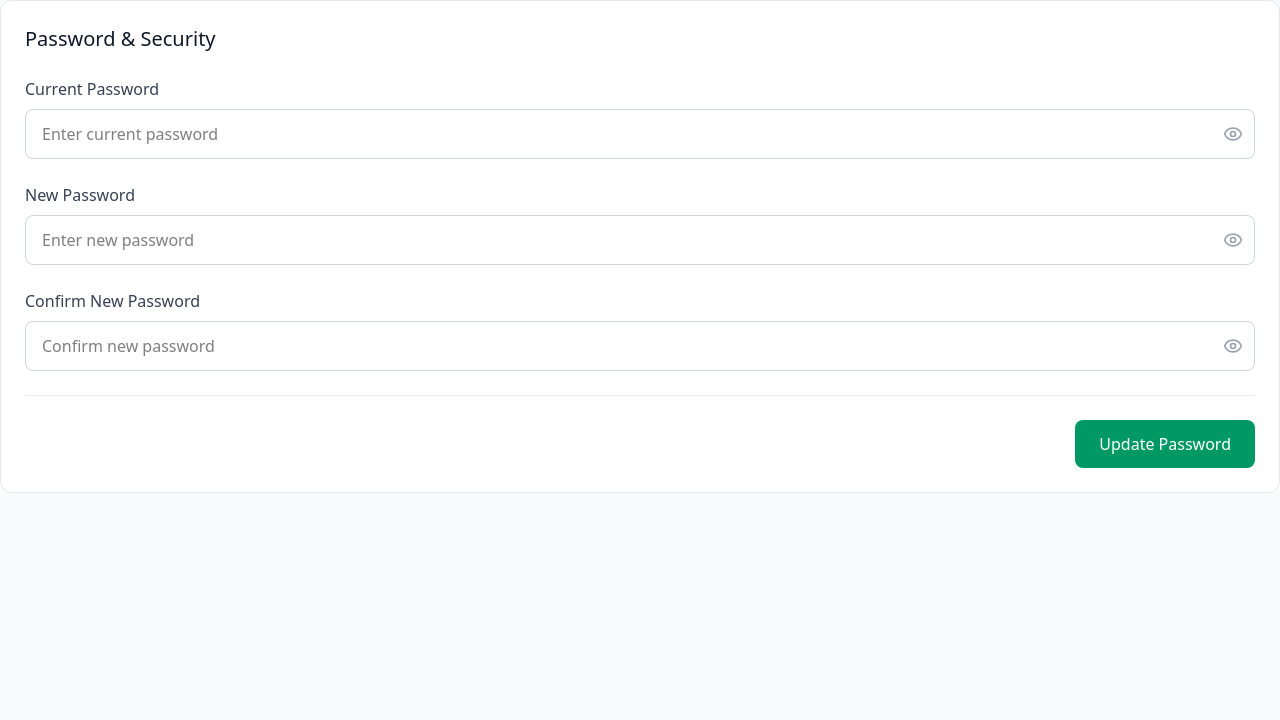
it: PasswordChangeCard › shows error when any field is empty
Step 1. Click the button "Update Password" → (1165, 444), box [1075,420,1255,468]
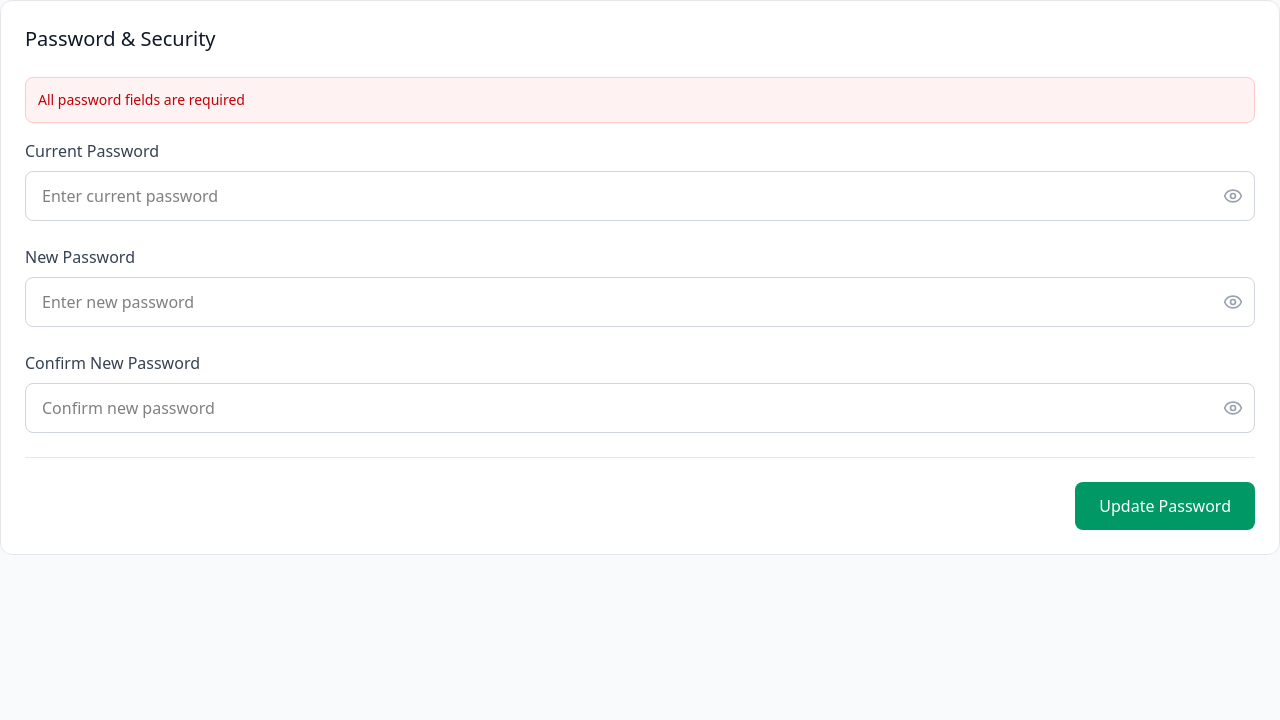
expect the text "All password fields are required" is shown: met, box [25,77,1255,123]
